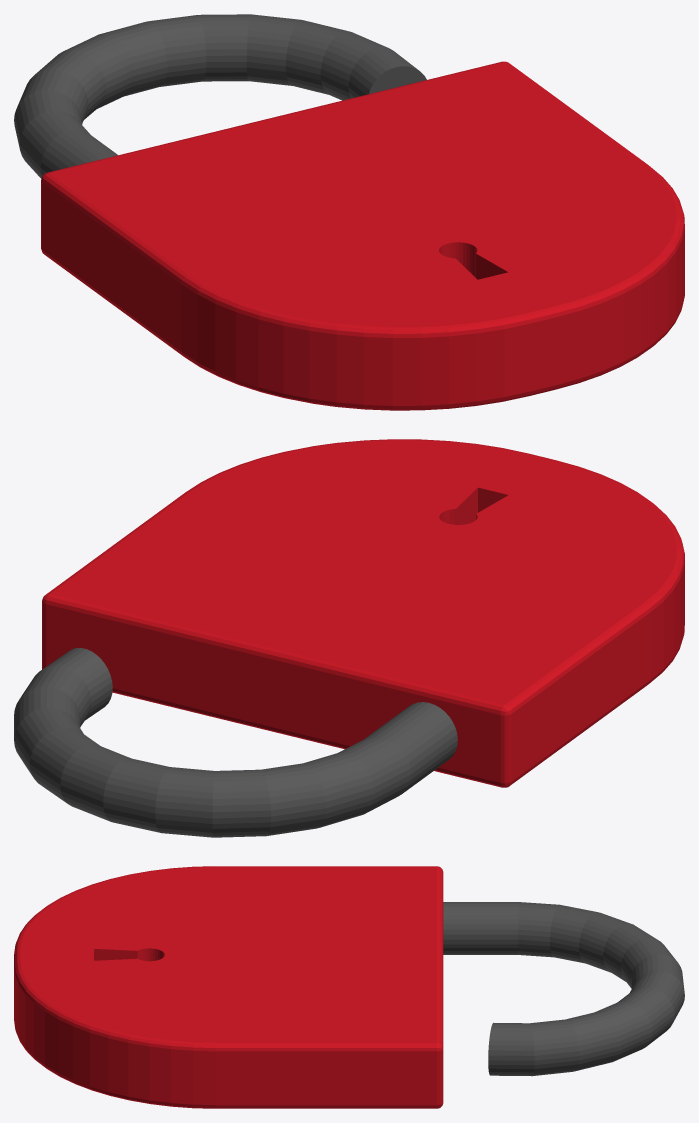
Rendered from lockOne-no-text.glb.
The picture shows the model from 3 angles, top to bottom: view 1: azimuth 30°, elevation 25°; view 2: azimuth 150°, elevation 25°; view 3: azimuth 270°, elevation 25°; orthographic projection. The views are drawn at different scales.
Parts seen in each view (by area): view 1: Cube, Cylinder.001; view 2: Cube, Cylinder.001; view 3: Cube, Cylinder.001.
Part boxes in pixels (<box>): Cube: <box>41,61,684,410</box>; Cylinder.001: <box>14,14,426,178</box>; Cube: <box>42,439,684,787</box>; Cylinder.001: <box>14,648,457,837</box>; Cube: <box>14,866,443,1108</box>; Cylinder.001: <box>443,902,684,1076</box>.
Bounding box in the file's own units: 5.99 × 1.01 × 9.35.
